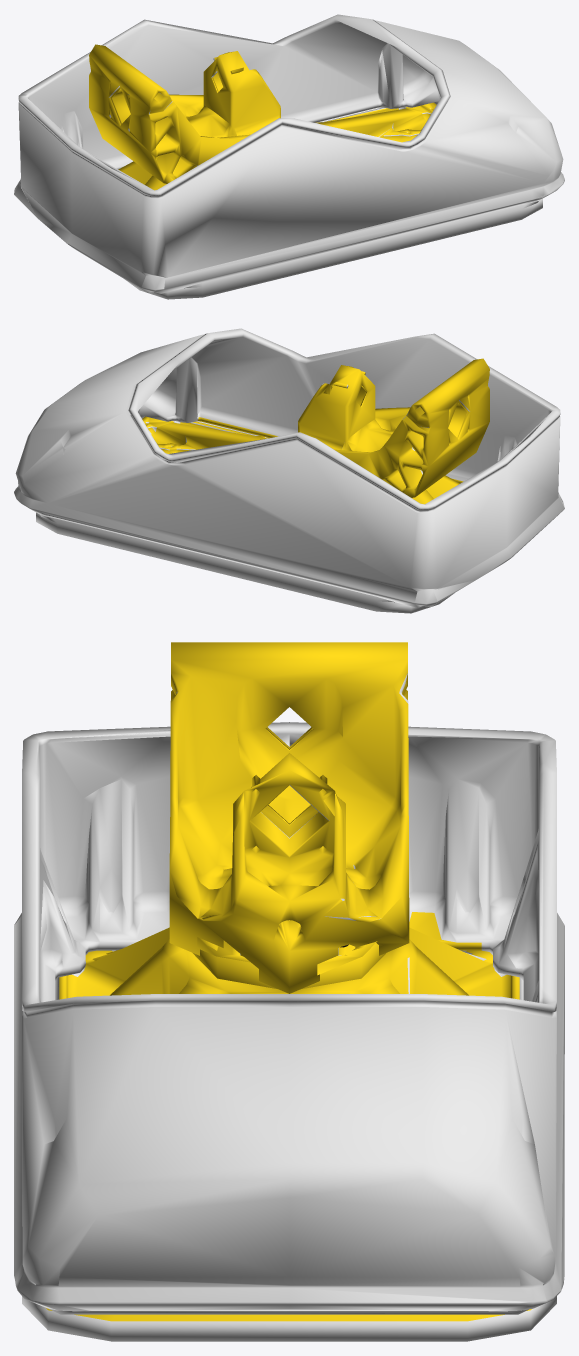
Rendered from foot.dae.
The picture shows the model from 3 angles, top to bottom: view 1: azimuth 30°, elevation 25°; view 2: azimuth 150°, elevation 25°; view 3: azimuth 270°, elevation 25°; orthographic projection. The views are drawn at different scales.
Parts seen in each view (by area): view 1: Foot; view 2: Foot; view 3: Foot.
Boxes of the visible parts, x1=… form: Foot: x1=14, y1=14, x2=564, y2=299; Foot: x1=14, y1=328, x2=564, y2=613; Foot: x1=14, y1=642, x2=564, y2=1341.
Size of the model in its own units: 0.2782 by 0.157 by 0.1109.
